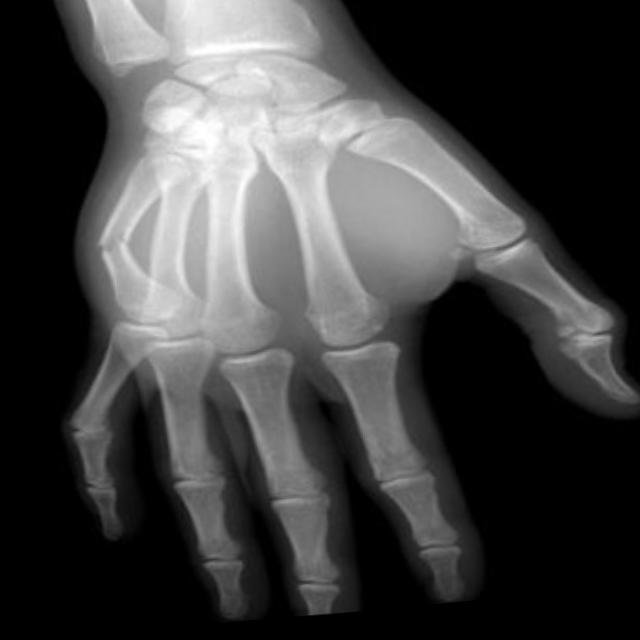fracture: (81, 227, 136, 268)
